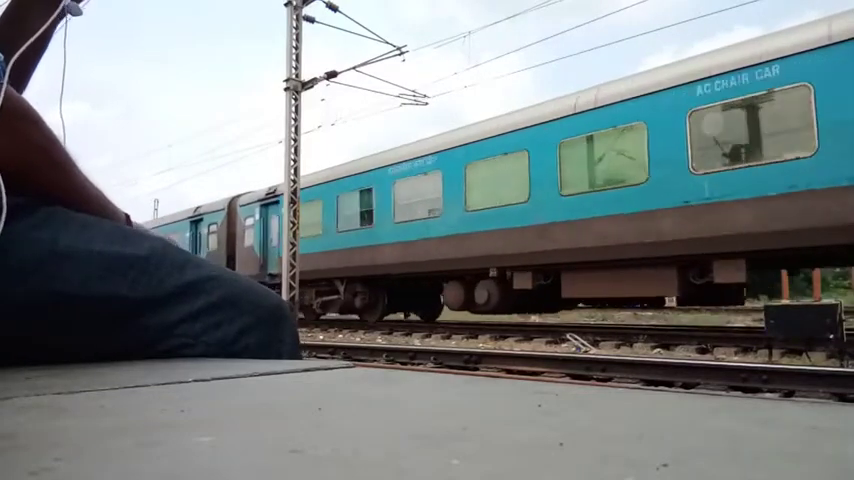Car Type: (682, 56, 787, 100)
